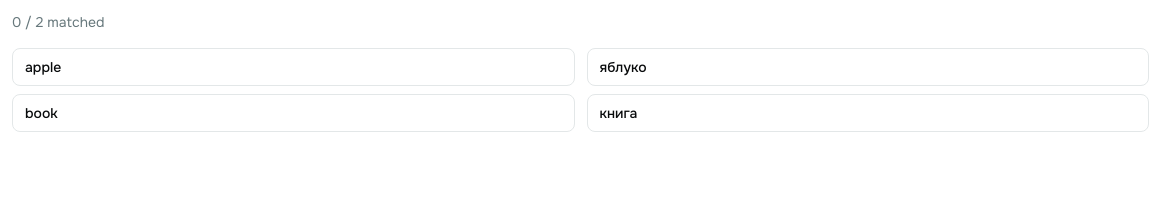
Test: VocabularyTest › shows completion banner when all matched
The image size is (1164, 203).
Click the button "apple".
click(43, 67)  # box x1=12 y1=48 x2=574 y2=86
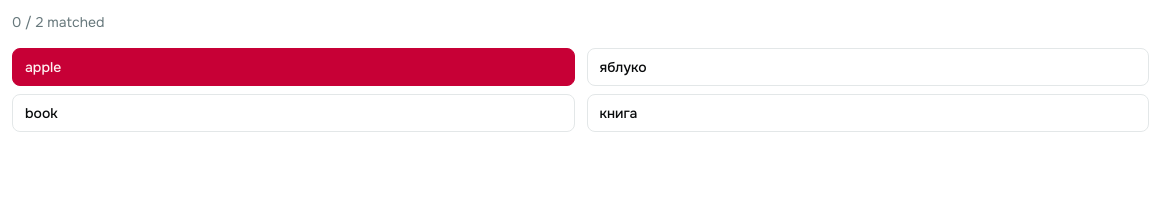
Click the button "яблуко".
click(623, 67)  # box x1=586 y1=48 x2=1149 y2=86
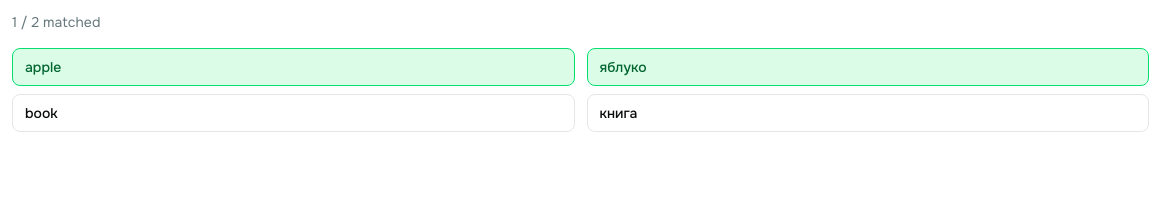
Click the button "book".
click(41, 113)  # box x1=12 y1=94 x2=574 y2=132
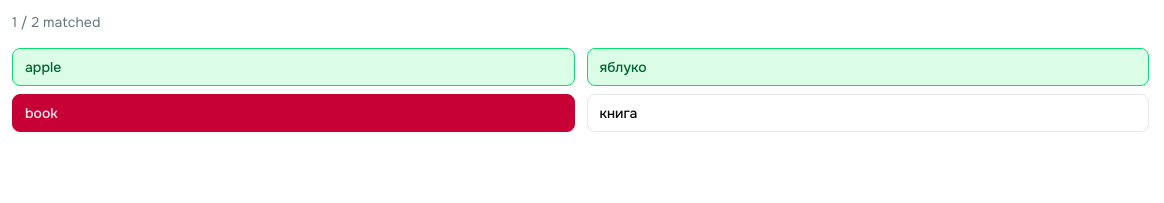
Click the button "книга".
click(618, 113)  # box x1=586 y1=94 x2=1149 y2=132
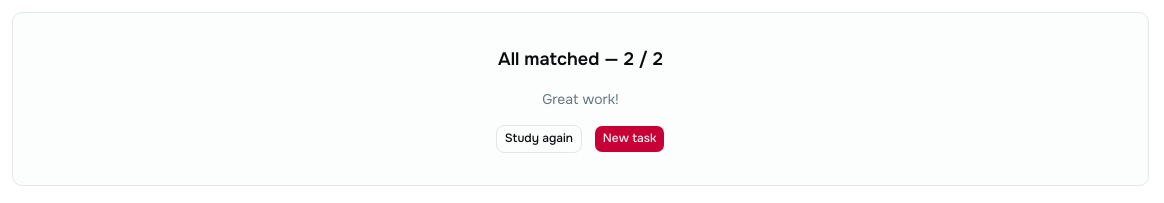
Expected: the text "All matched — 2 / 2" is shown, x1=498 y1=45 x2=663 y2=73
Expected: the button "Study again" is shown, x1=496 y1=125 x2=582 y2=153
Expected: the button "New task" is shown, x1=594 y1=125 x2=665 y2=153
